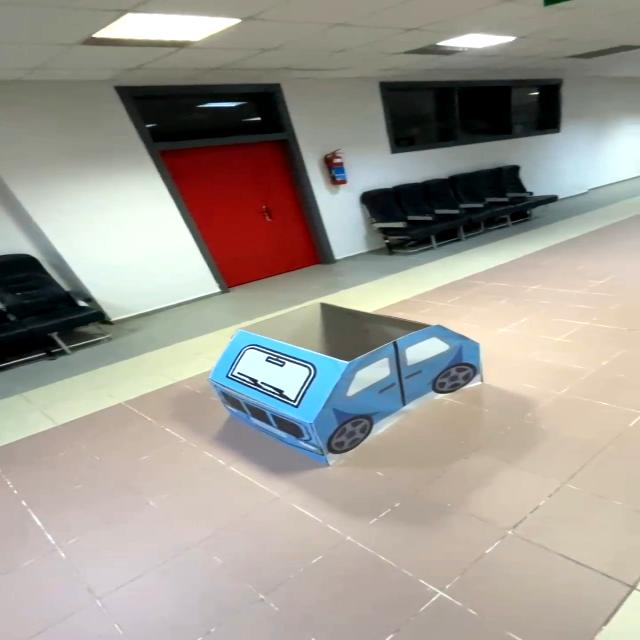blue_car: (171, 289, 538, 479)
